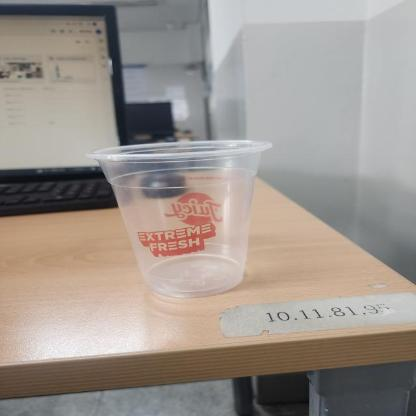Plastic Cup: (88, 139, 272, 298)
